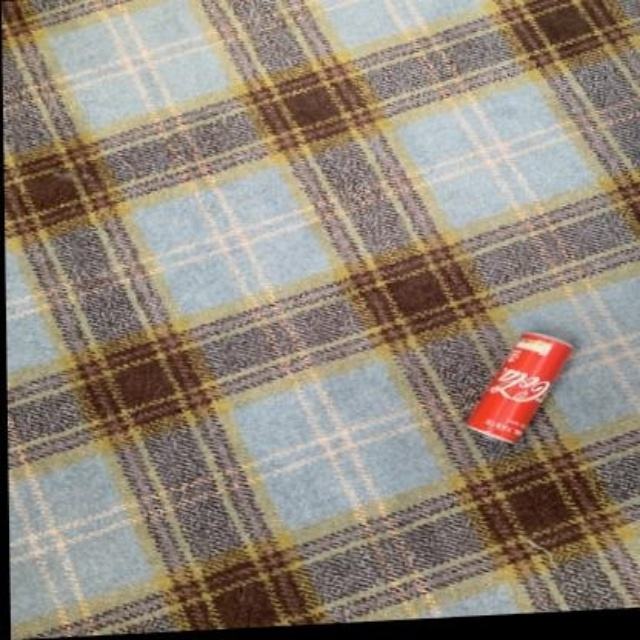trash: (468, 332, 571, 442)
